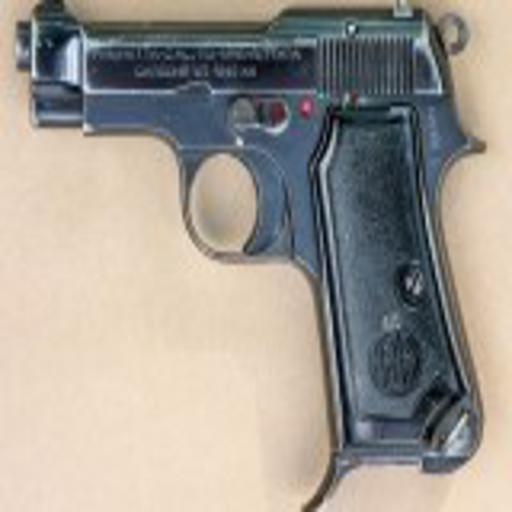Handgun: (11, 7, 482, 472)
